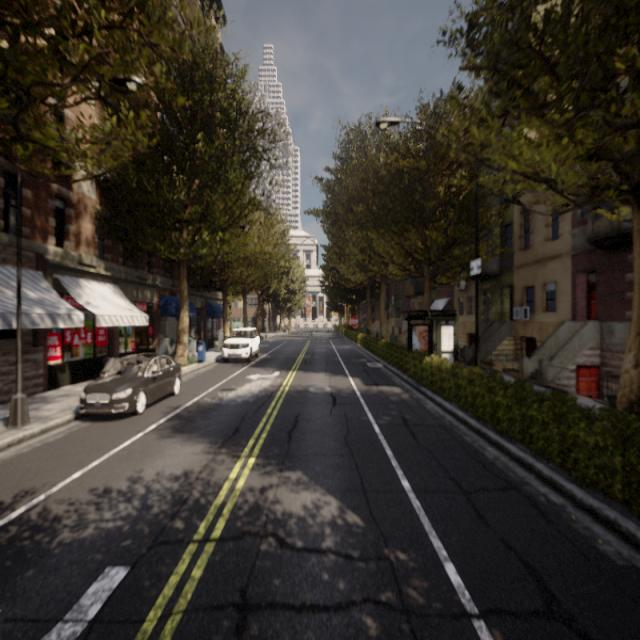stop sign: (347, 310, 362, 340)
